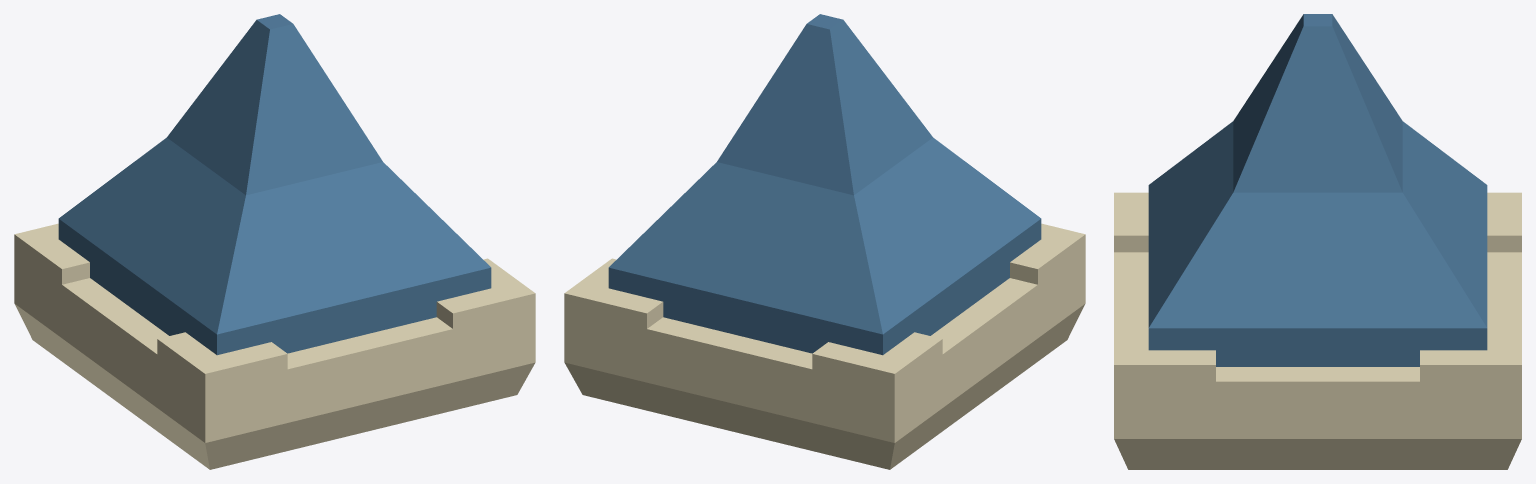
Rendered from towerSquareTopRoof.fbx.
The picture shows the model from 3 angles, left to right: view 1: azimuth 30°, elevation 25°; view 2: azimuth 150°, elevation 25°; view 3: azimuth 270°, elevation 25°; orthographic projection. The views are drawn at different scales.
Visible parts, largest first — view 1: towerSquareTopRoof; view 2: towerSquareTopRoof; view 3: towerSquareTopRoof.
Part boxes in pixels (x1,y1,x2,y2): towerSquareTopRoof: (14, 14, 535, 469); towerSquareTopRoof: (564, 14, 1085, 469); towerSquareTopRoof: (1114, 14, 1521, 469).
Bounding box in the file's own units: 10 × 10 × 10.
